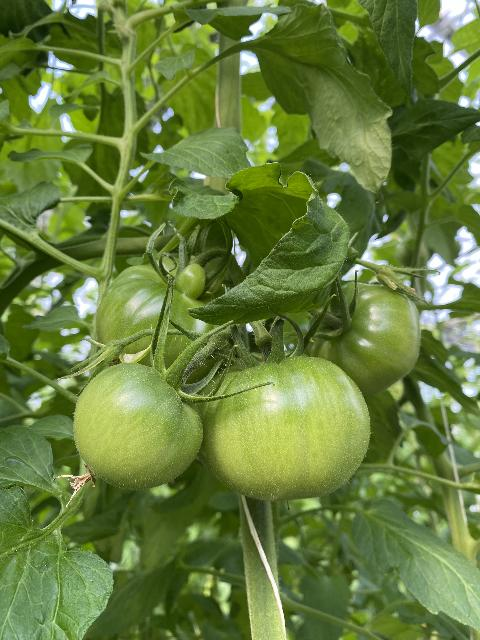b_green: (177, 351, 371, 500), (95, 258, 248, 387), (72, 363, 202, 491), (306, 280, 422, 397)
